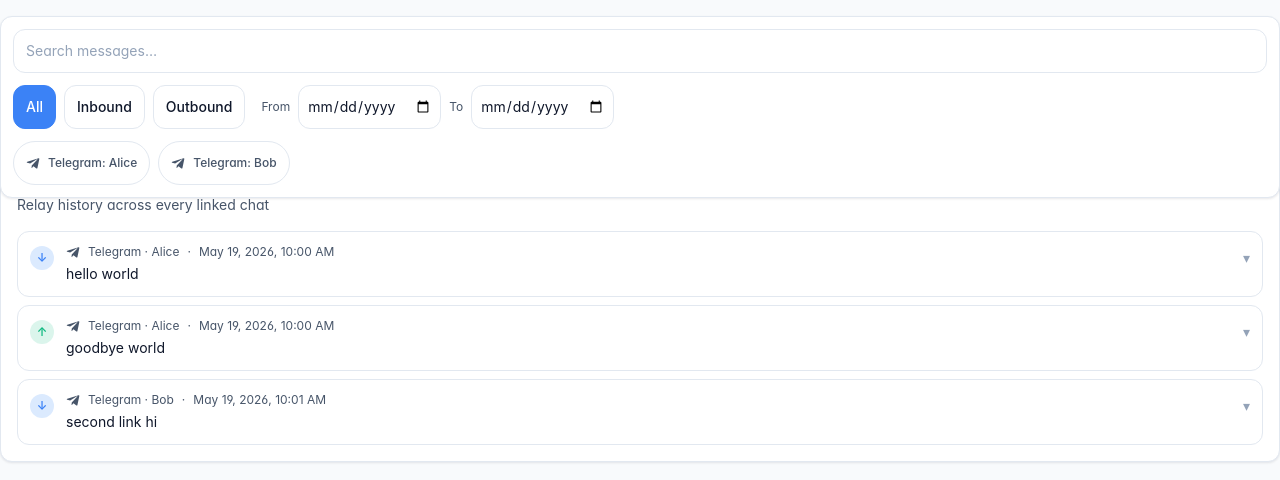
Scenario: <Messages /> › client-filters by free-text after the debounce settles
expect the text "hello world" is shown: met, box [66,265,139,282]
Step 1. Type "goodbye" into the search field named "search message text" → (640, 51), box [13,29,1267,73]
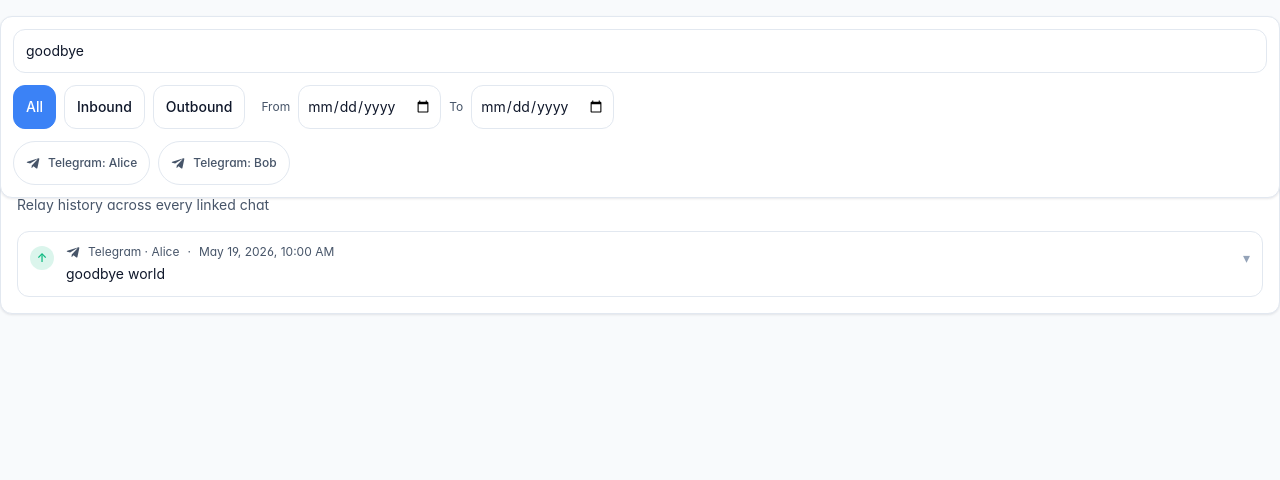
expect the text "goodbye world" is shown: met, box [66,265,165,282]
expect the button "hello world" is gone: met
